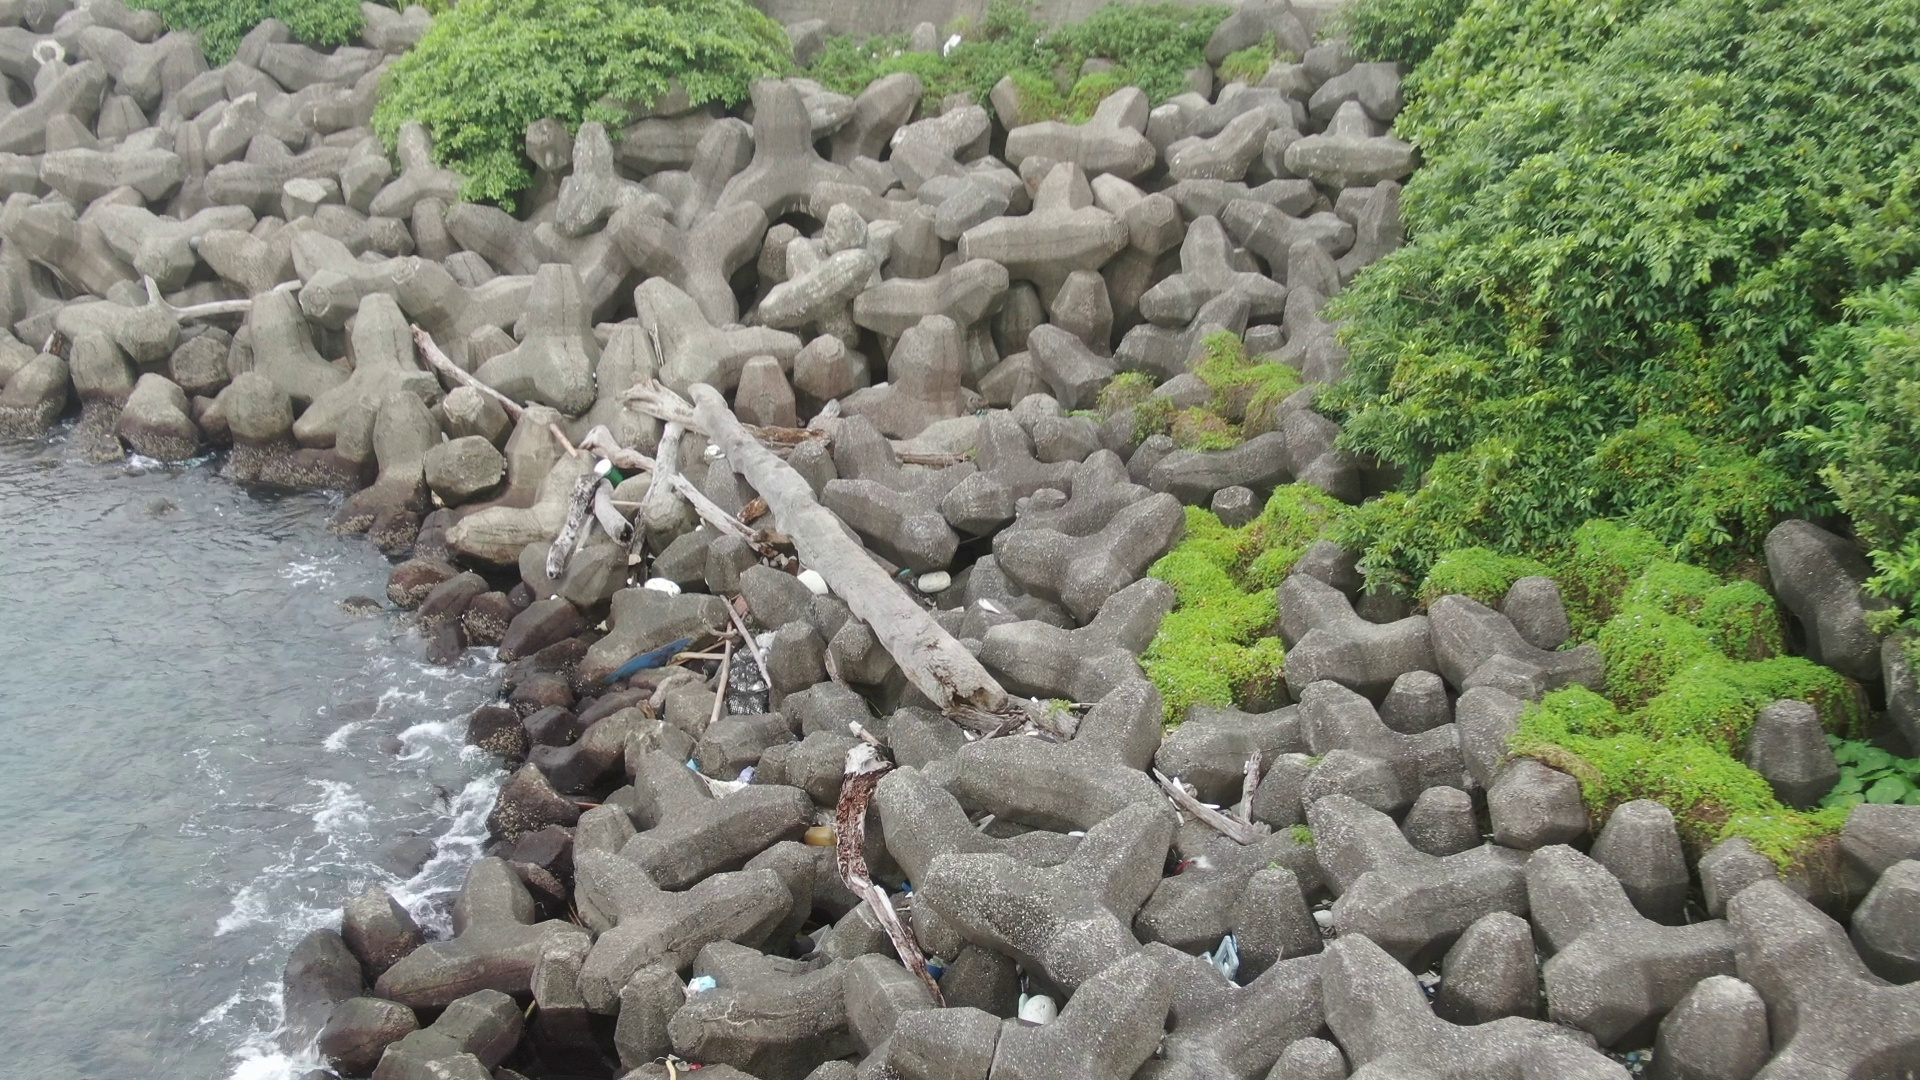garbage: (707, 611, 789, 740), (580, 636, 705, 698), (882, 874, 948, 990), (996, 976, 1089, 1036), (1607, 1027, 1680, 1080), (795, 919, 862, 971), (637, 568, 703, 611), (796, 560, 837, 611), (911, 564, 971, 599), (596, 460, 637, 497), (678, 971, 725, 1000), (938, 26, 977, 58)
